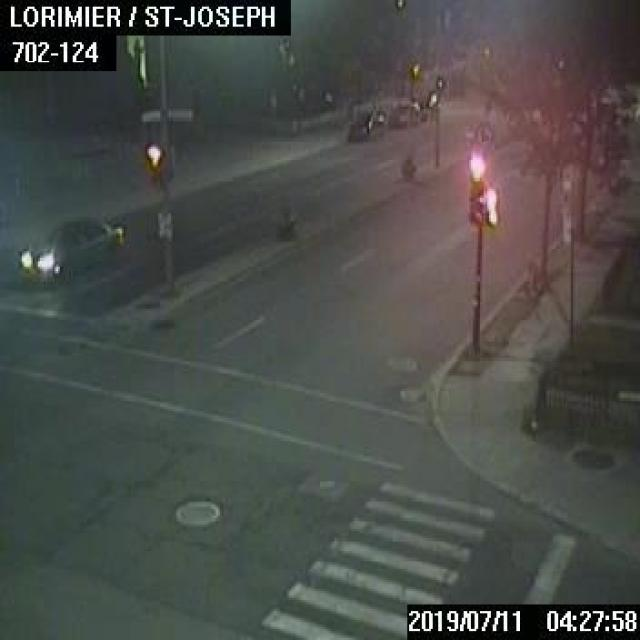vehicle: (18, 215, 123, 282), (346, 106, 386, 138), (387, 102, 425, 126)
